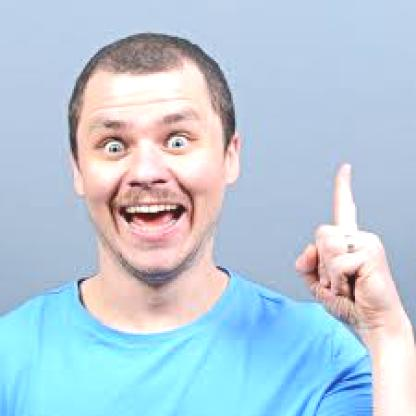Up: (288, 155, 400, 321)
